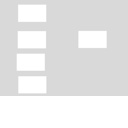square: (16, 2, 49, 24), (75, 27, 108, 49), (14, 51, 46, 72), (14, 74, 47, 94), (15, 29, 47, 49)
